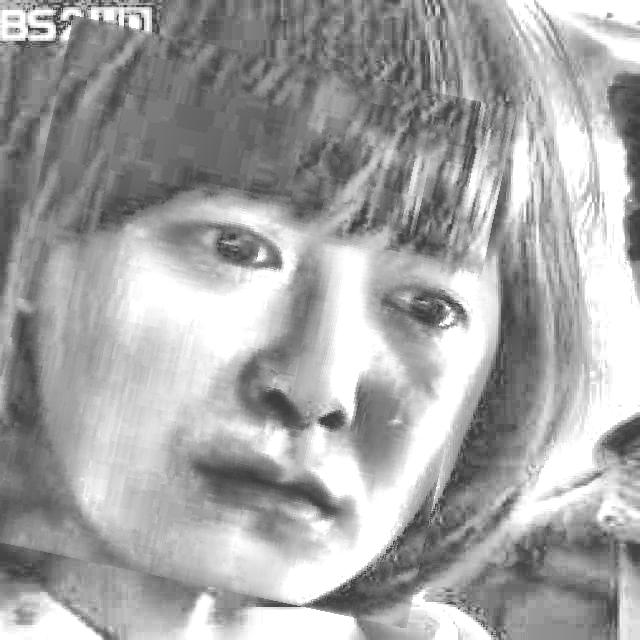sad: (0, 35, 491, 607)
